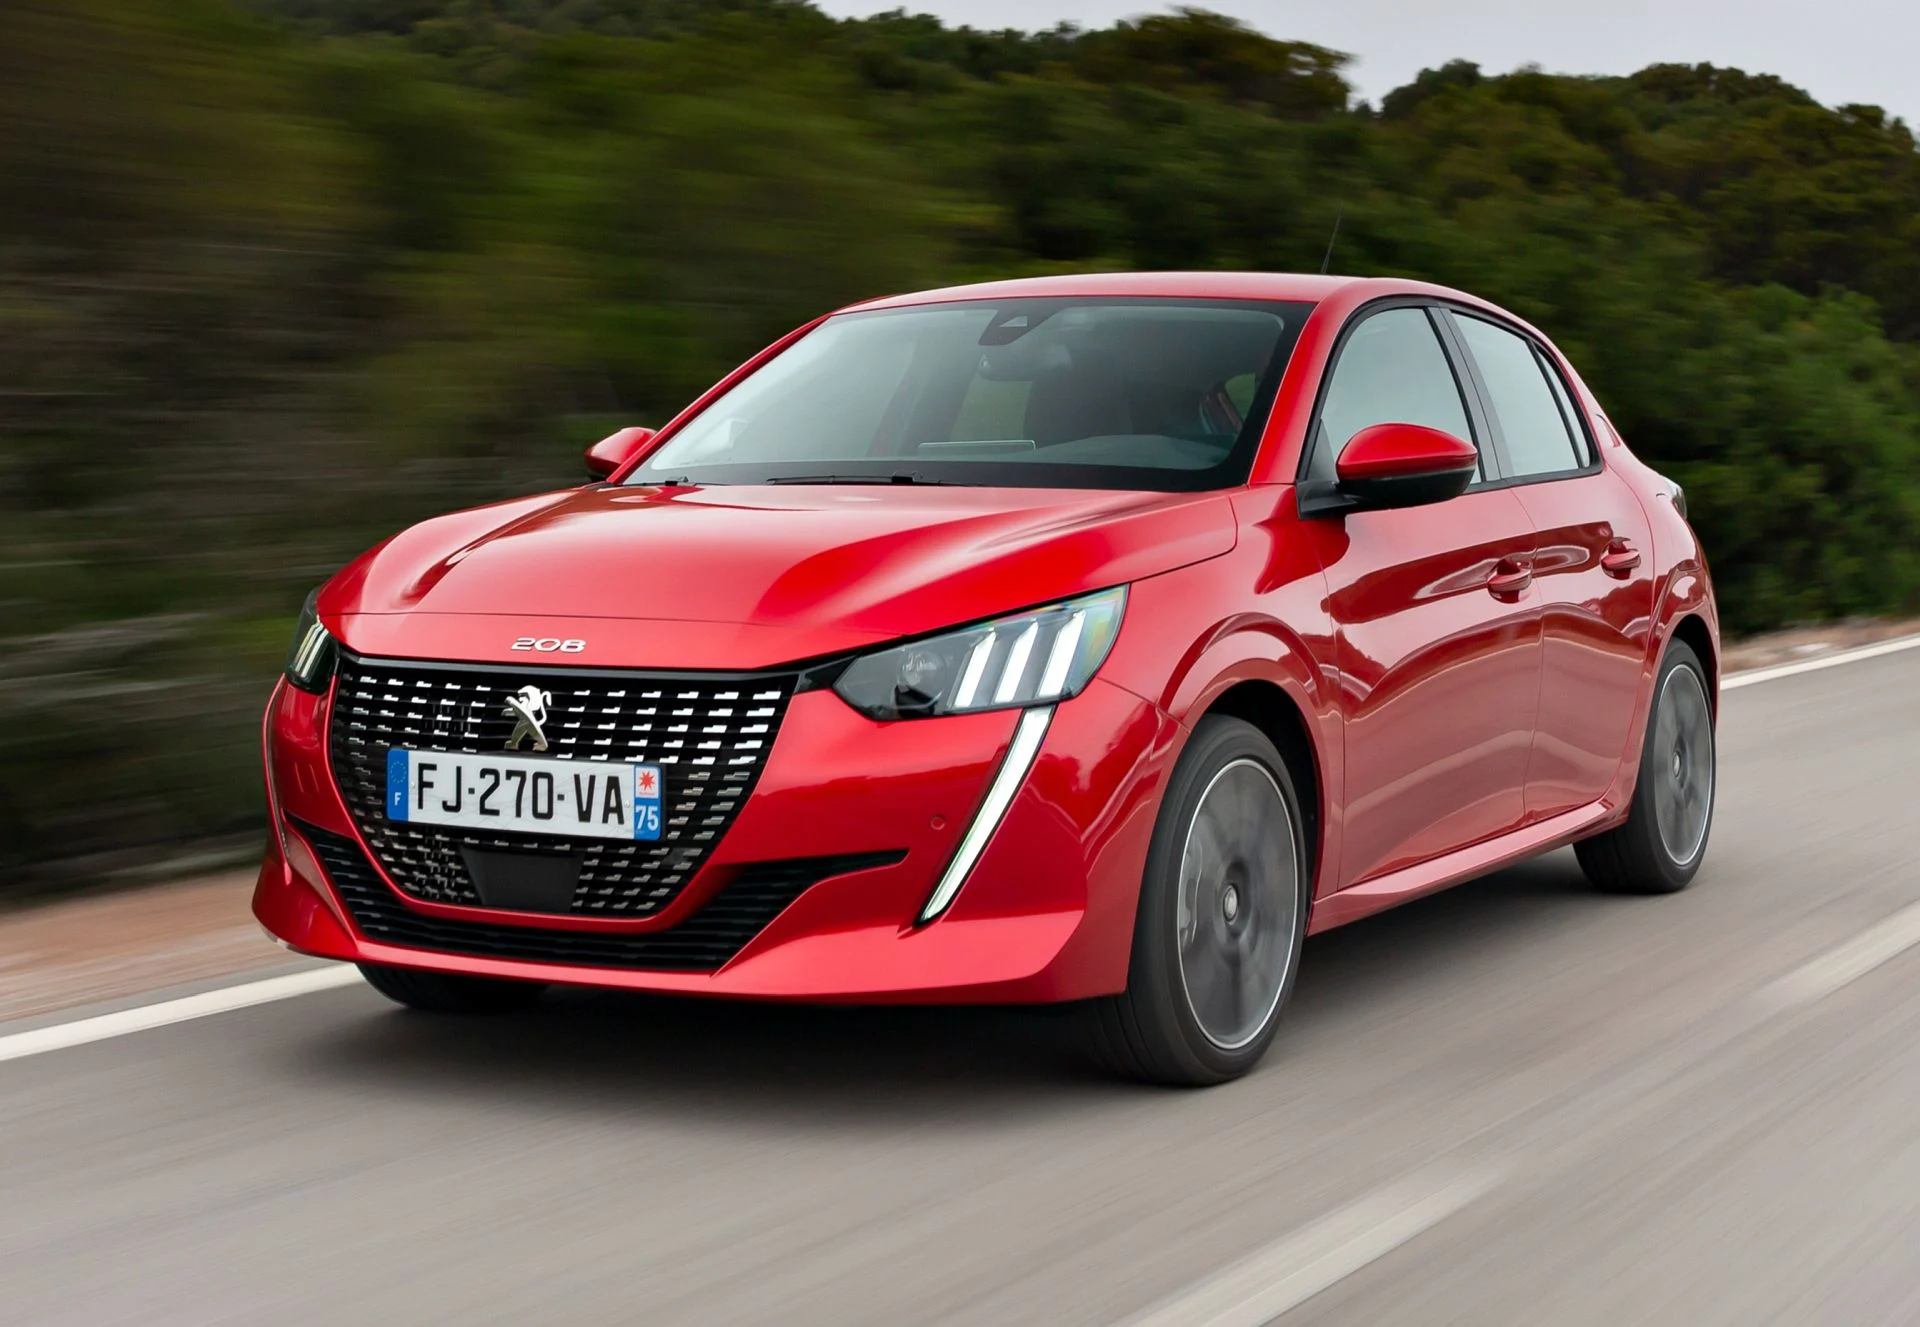tablica: (391, 747, 659, 840)
